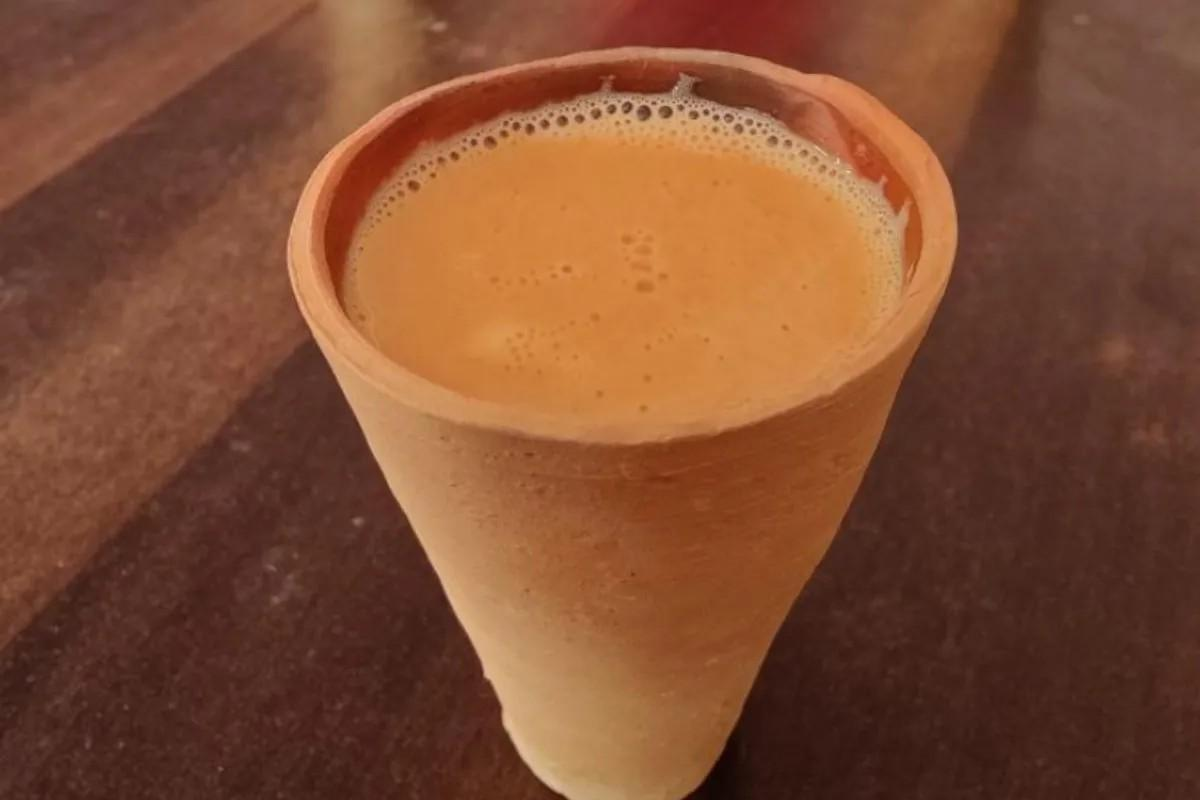Chai: (346, 94, 901, 416)
